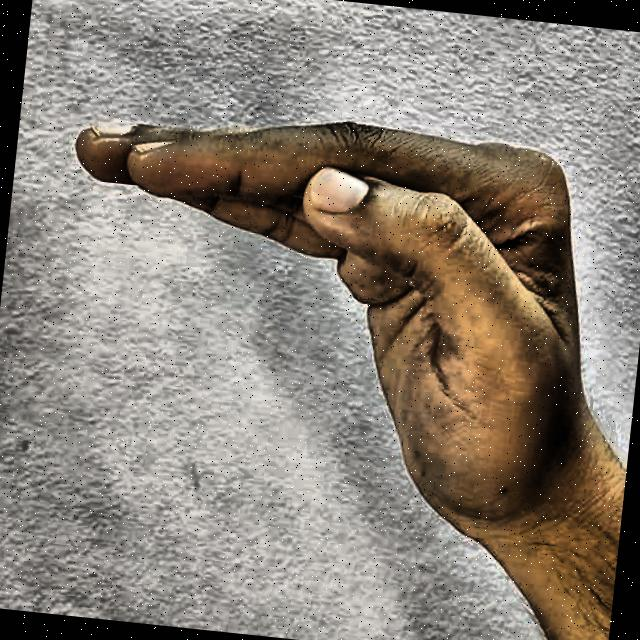Ga: (21, 41, 640, 595)
